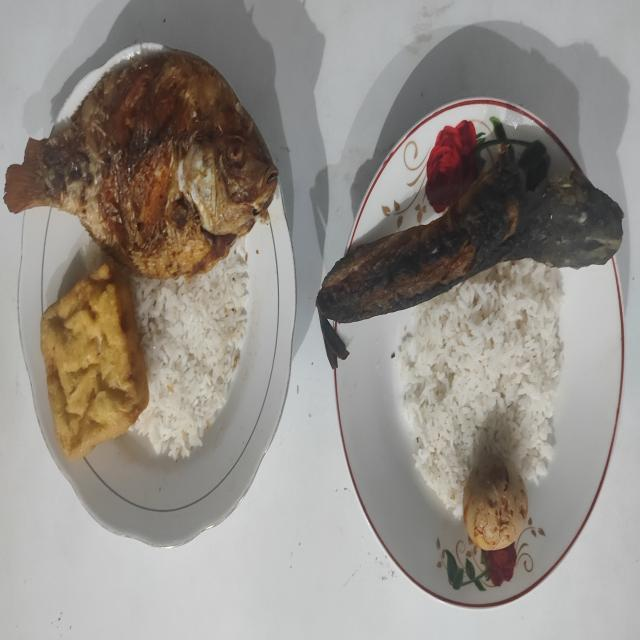ikan_mujair: (4, 48, 278, 279)
nasi_putih: (396, 260, 564, 518), (130, 238, 250, 460)
tahu_goreng: (40, 263, 148, 457)
